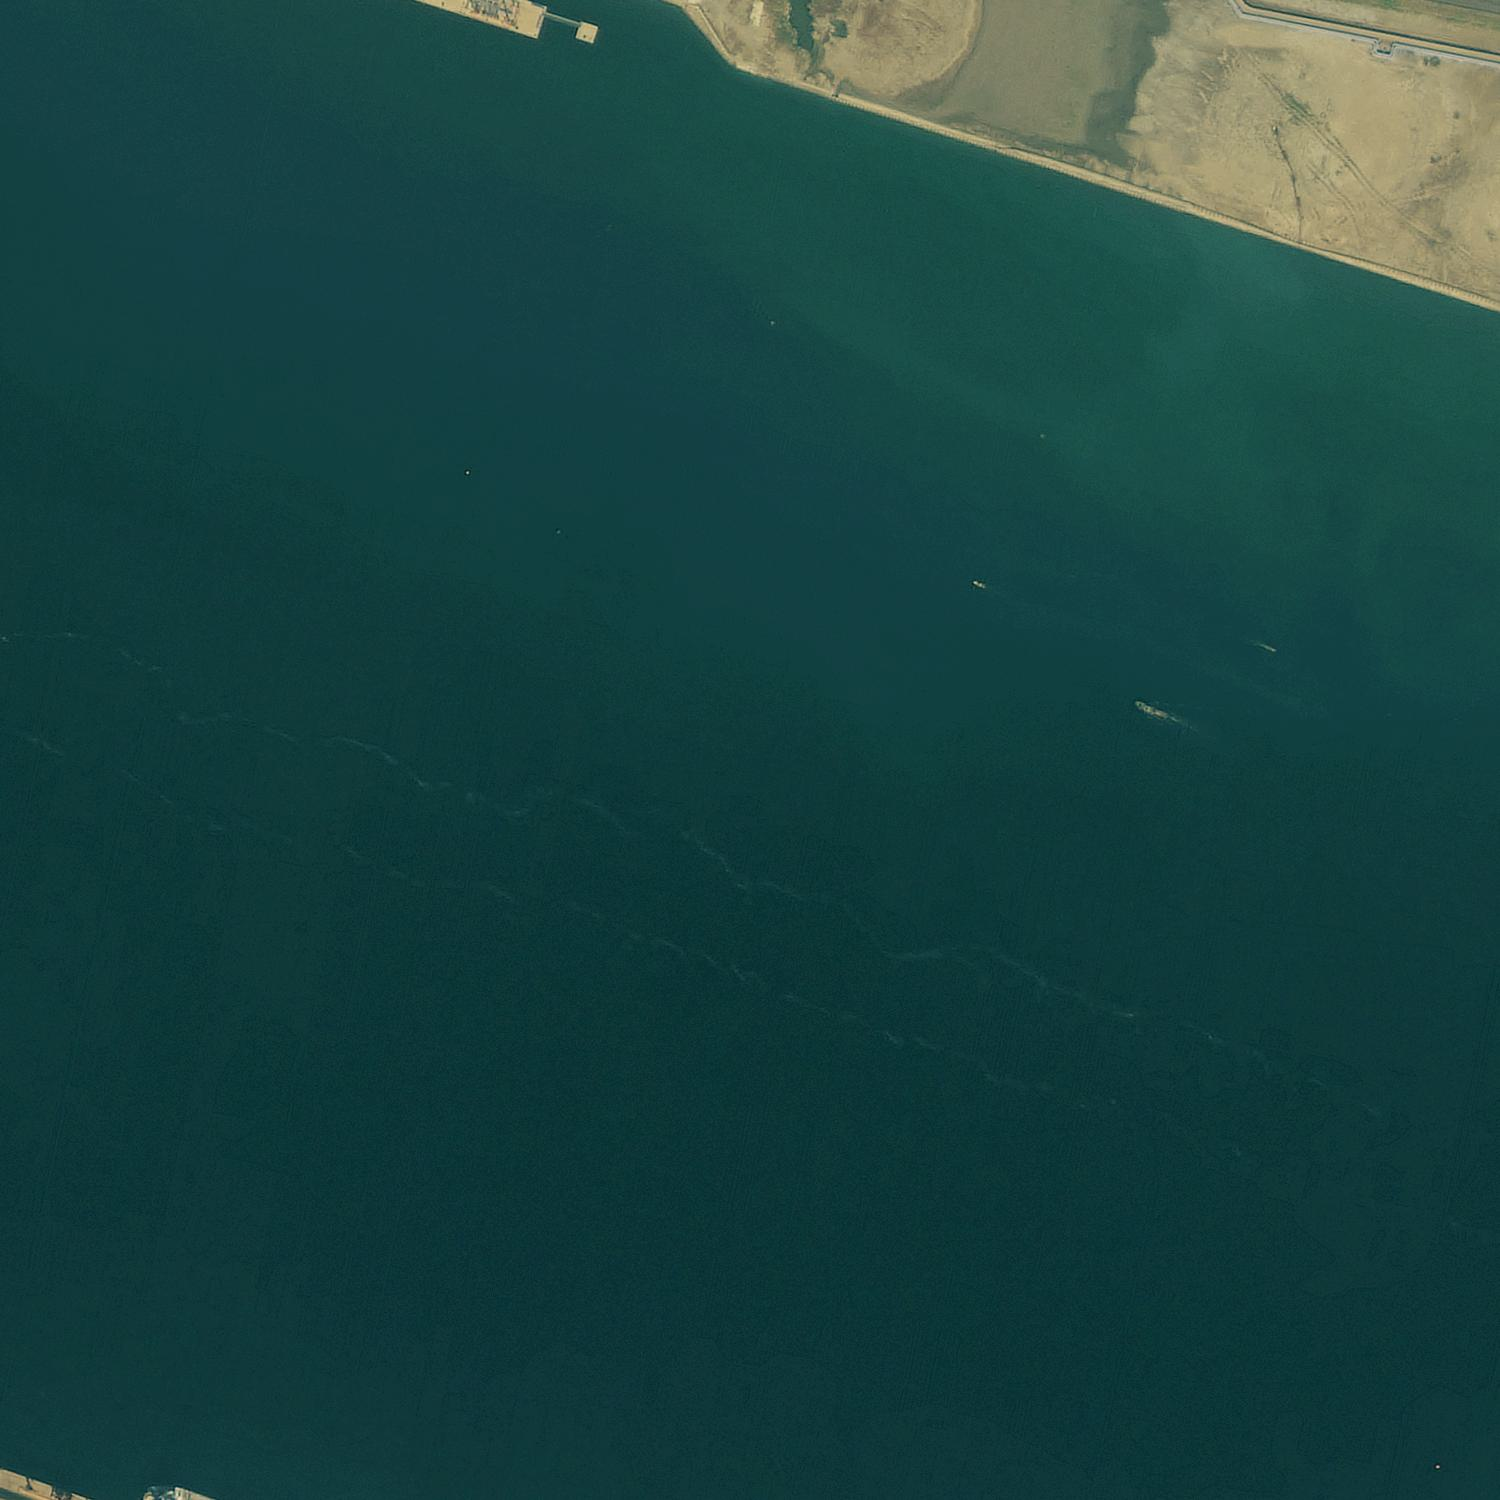A19: (753, 223, 868, 416), (194, 228, 312, 410), (611, 227, 727, 409), (330, 221, 447, 400), (478, 218, 595, 396), (53, 233, 168, 412)
